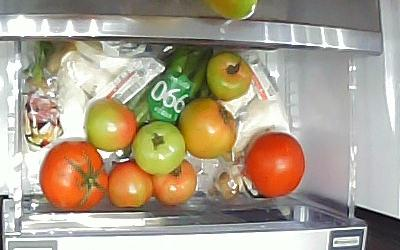tomato: (41, 141, 108, 212), (245, 132, 305, 197), (179, 97, 238, 160), (131, 121, 186, 176), (85, 97, 137, 153), (206, 52, 252, 102), (109, 161, 153, 208), (154, 160, 197, 208)
